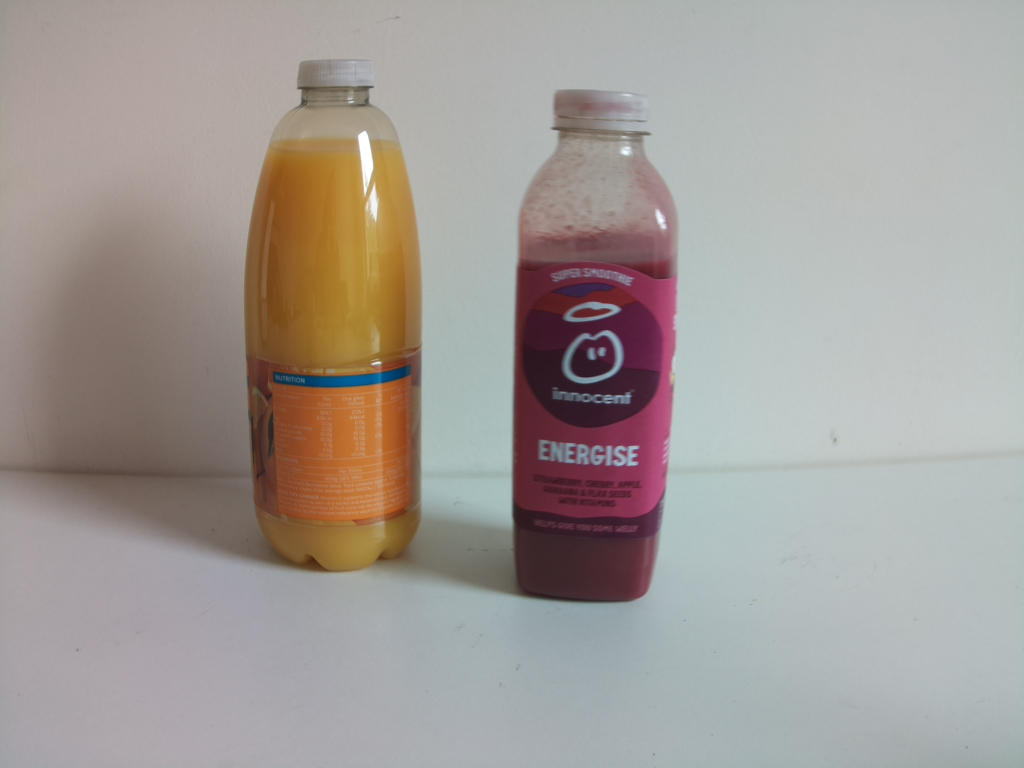juice: (238, 49, 433, 575), (503, 68, 682, 605)
